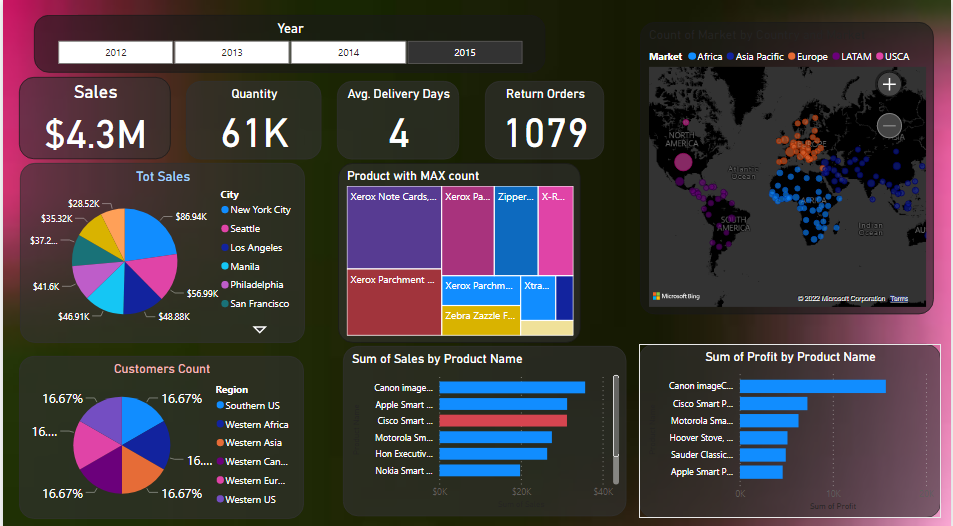

The page's visual inventory and layout, read from the dashboard file:
{"tool":"powerbi","page":{"name":"Page 1","canvas":[1280,720],"ordinal":0},"visuals":[{"type":"card","title":"Sales","fields":{"Values":["Sum(Orders.Sales)"]},"box":[21.8,104.1,204.9,110.9],"z":0},{"type":"card","title":"Quantity","fields":{"Values":["Sum(Orders.Quantity)"]},"box":[246.9,109.2,183.1,105.8],"z":1000},{"type":"card","title":"Avg. Delivery Days","fields":{"Values":["Avg(Orders.Delivery Days)"]},"box":[451.9,109.2,164.6,105.8],"z":2000},{"type":"card","title":"Return Orders","fields":{"Values":["Sum(Returns.Return Orders)"]},"box":[651.8,109.2,161.3,105.8],"z":3000},{"type":"barChart","fields":{"Category":["Orders.Product Name"],"Y":["Sum(Orders.Profit)"]},"box":[860,465,407.5,235],"z":4000},{"type":"barChart","fields":{"Category":["Orders.Product Name"],"Y":["Sum(Orders.Sales)"]},"box":[460,467.5,382.5,230],"z":5000},{"type":"pieChart","title":"Tot Sales","fields":{"Category":["Orders.City"],"Y":["Sum(Orders.Sales)"]},"box":[22.5,220,385,242.5],"z":6000},{"type":"pieChart","title":"Customers Count","fields":{"Y":["CountNonNull(People.Person)"],"Category":["People.Region"]},"box":[21.8,480.4,384.7,220.1],"z":7000},{"type":"treemap","title":"Product with MAX count","fields":{"Group":["Orders.Product Name"],"Values":["CountNonNull(Orders.Region)"]},"box":[452.5,220,327.5,242.5],"z":8000},{"type":"map","fields":{"Category":["Orders.Country"],"Series":["Orders.Market"],"Size":["CountNonNull(Orders.Market)"]},"box":[860.3,29.8,396.9,395.4],"z":9000},{"type":"slicer","title":"Year","fields":{"Values":["Orders.Year"]},"box":[41.3,20.6,690.9,78.5],"z":10000}]}

Visuals, with their boxes in screenshot pixels (x1, y1, x2, y2), scaled from the page's 1280x720 canvas onto the 953x526 screenshot:
"Sales" card: 16/76/169/157
"Quantity" card: 184/80/320/157
"Avg. Delivery Days" card: 336/80/459/157
"Return Orders" card: 485/80/605/157
barChart - Orders.Product Name x Sum(Orders.Profit): 640/340/944/511
barChart - Orders.Product Name x Sum(Orders.Sales): 342/342/627/510
"Tot Sales" pieChart: 17/161/303/338
"Customers Count" pieChart: 16/351/303/512
"Product with MAX count" treemap: 337/161/581/338
map - Orders.Country x Orders.Market: 641/22/936/311
"Year" slicer: 31/15/545/72
